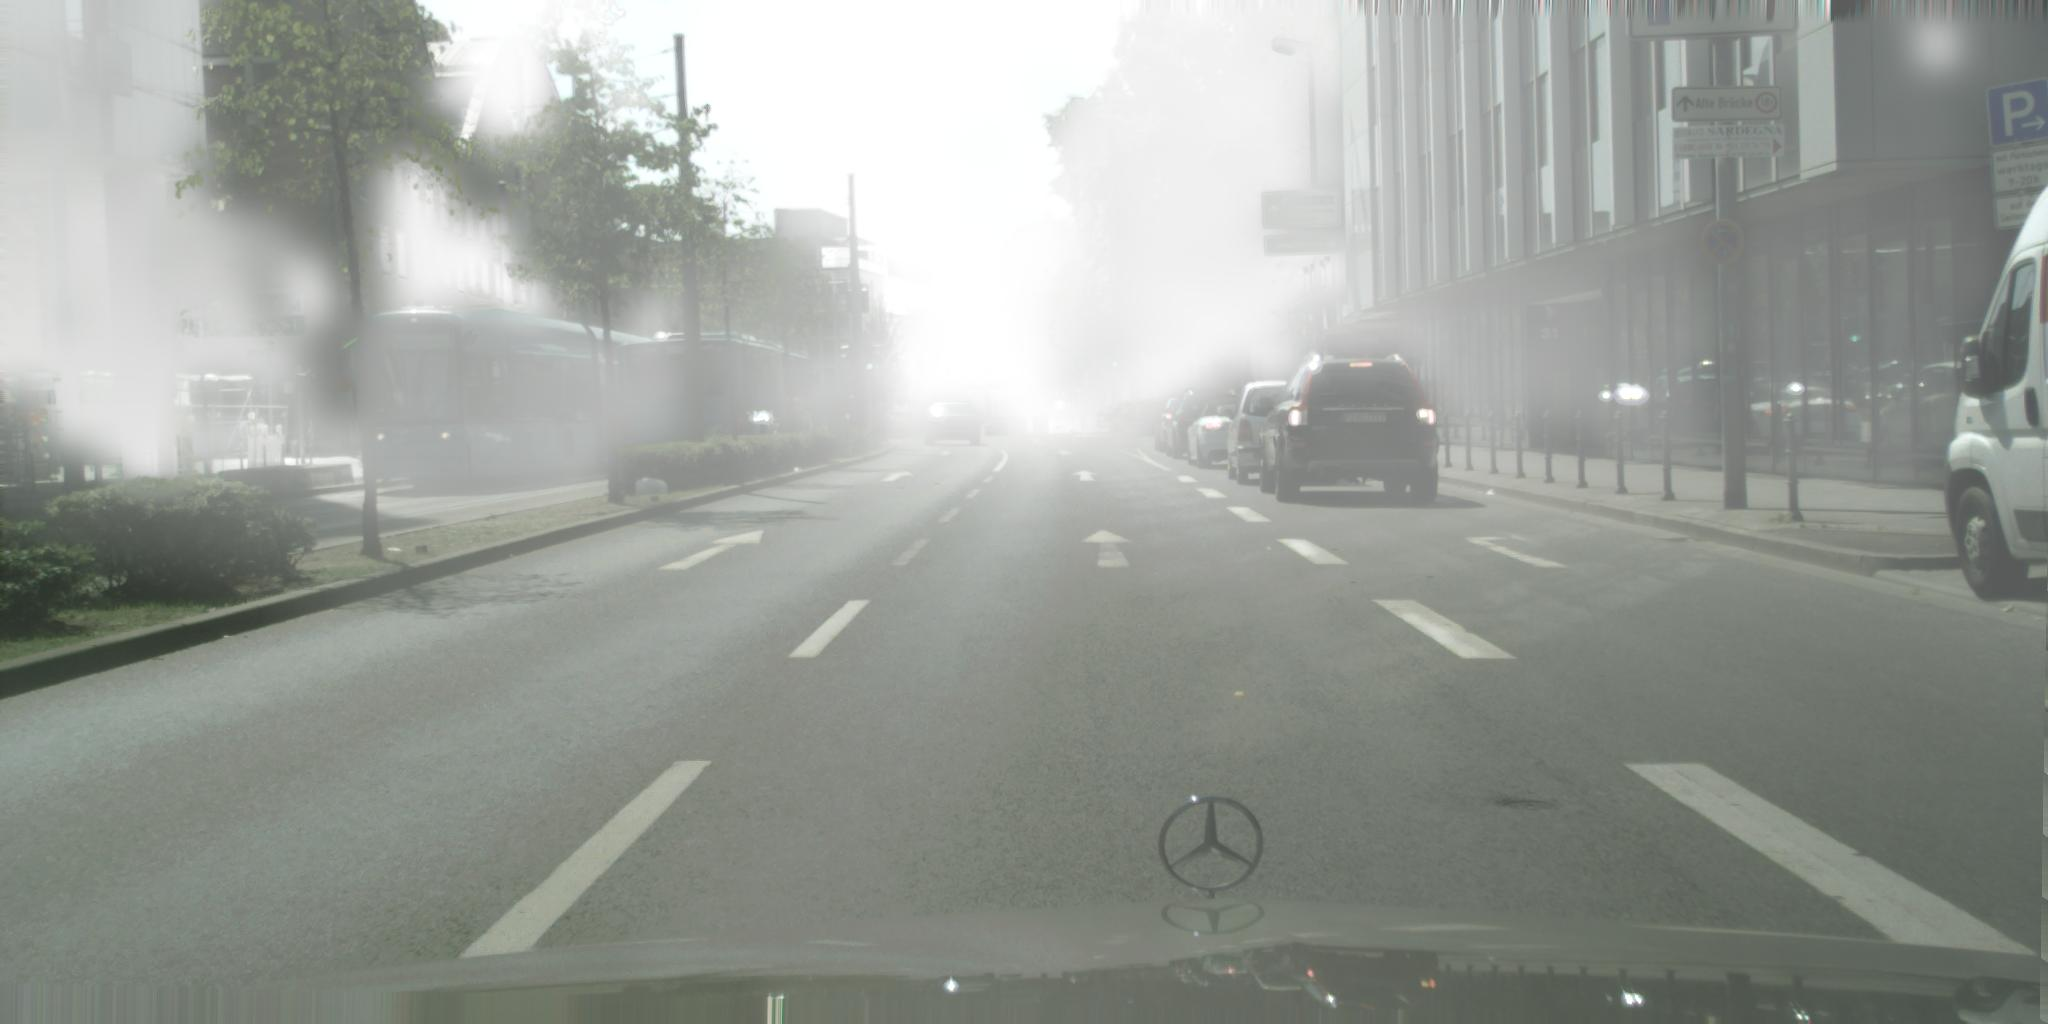bus: (618, 332, 815, 456)
car: (1942, 176, 2048, 603), (1259, 354, 1442, 505), (1220, 380, 1301, 487), (1165, 388, 1259, 460), (1187, 397, 1245, 472), (923, 401, 984, 447), (1152, 397, 1192, 455), (1051, 400, 1078, 428), (986, 421, 1010, 436)
train: (341, 307, 679, 491)
